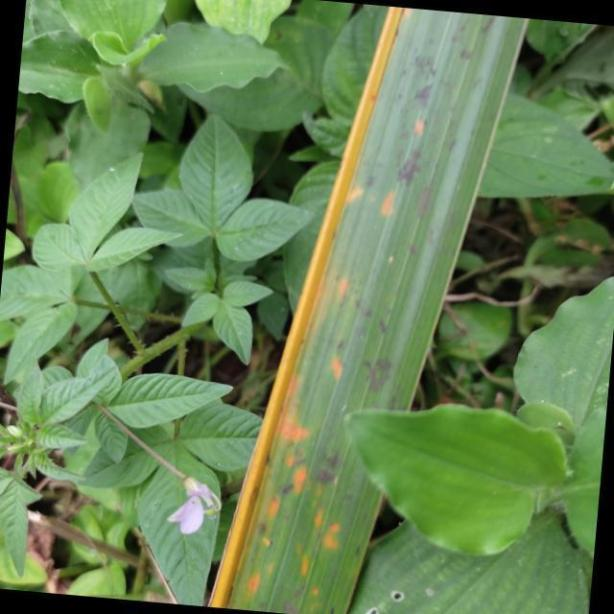Megnesium: (201, 0, 531, 614)
